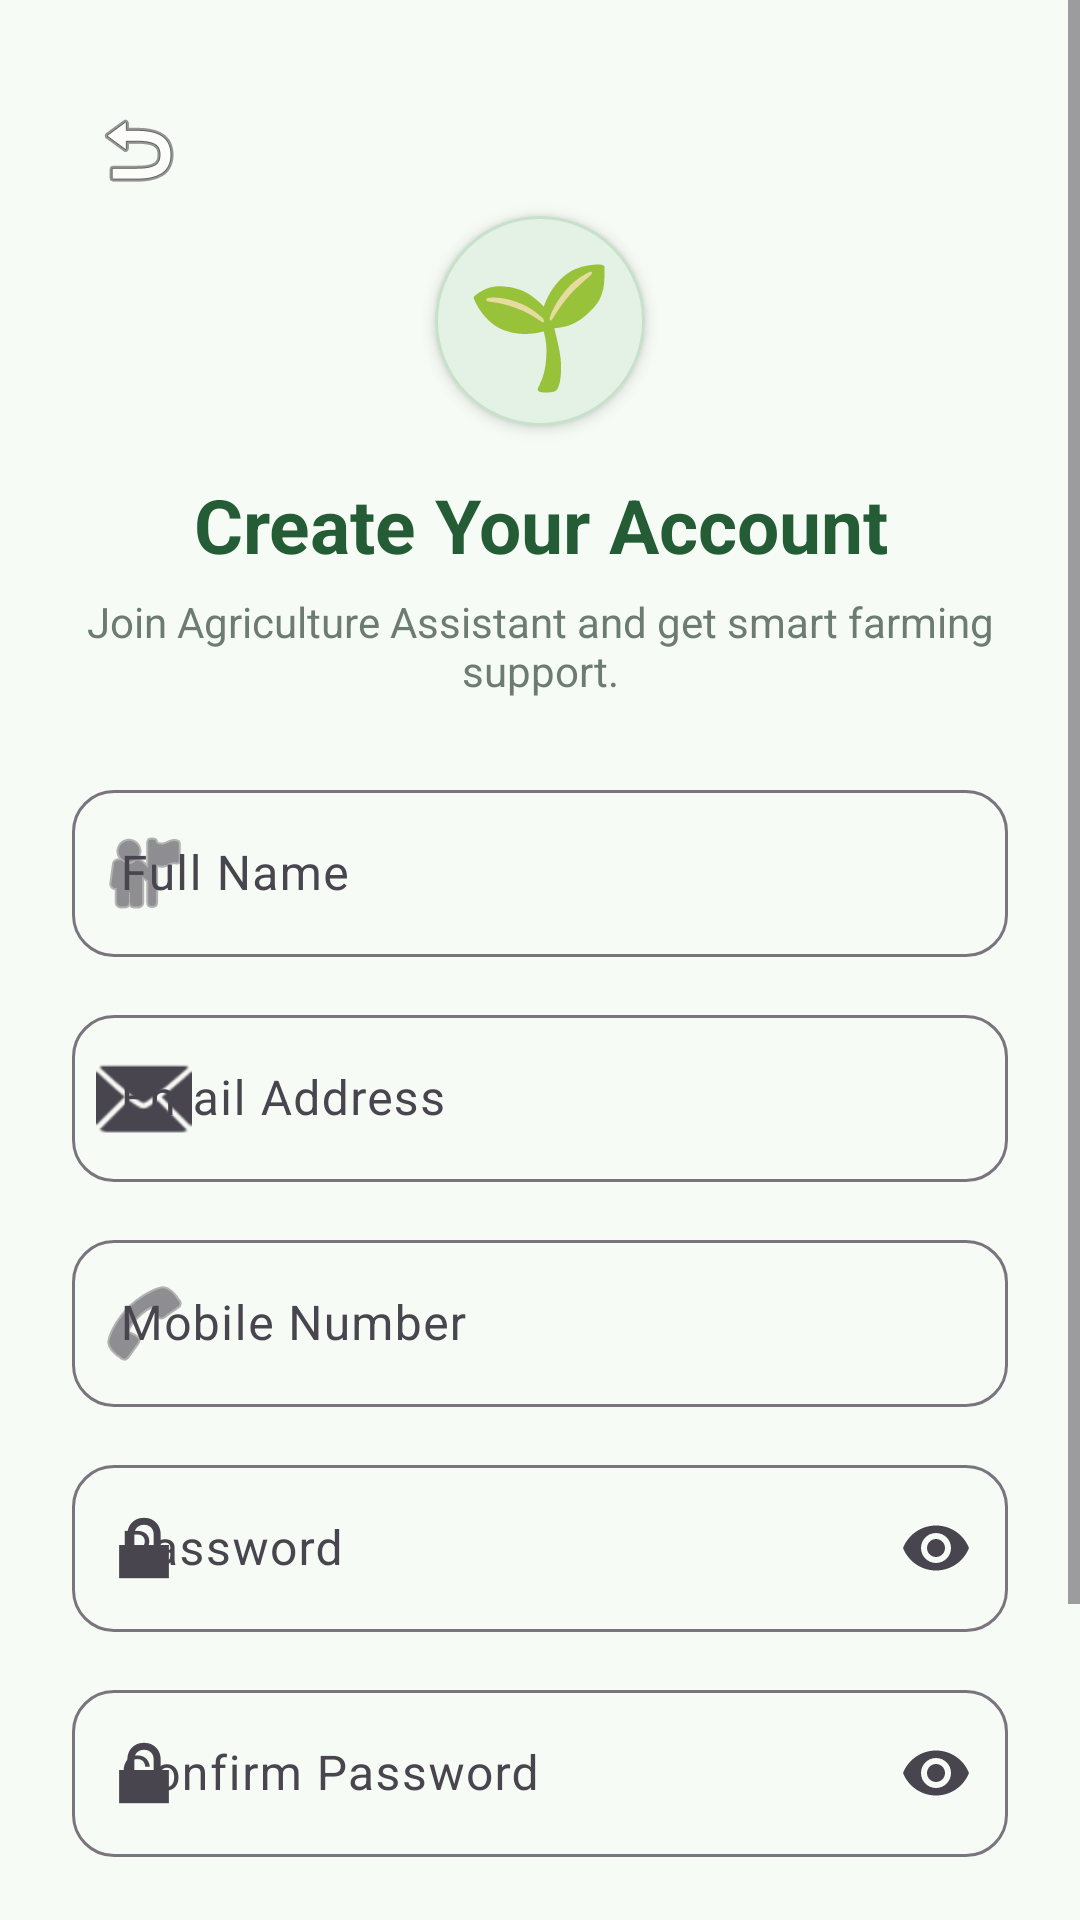

Point at icon controls on the screen. Image size 1080 x 1920, points as (x,y).
Go back: (139,150)
